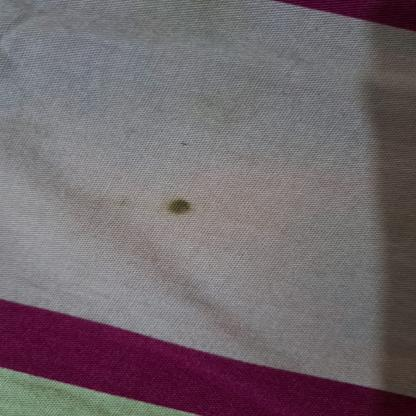spot: (169, 196, 196, 216), (181, 139, 202, 152), (112, 197, 138, 206)
